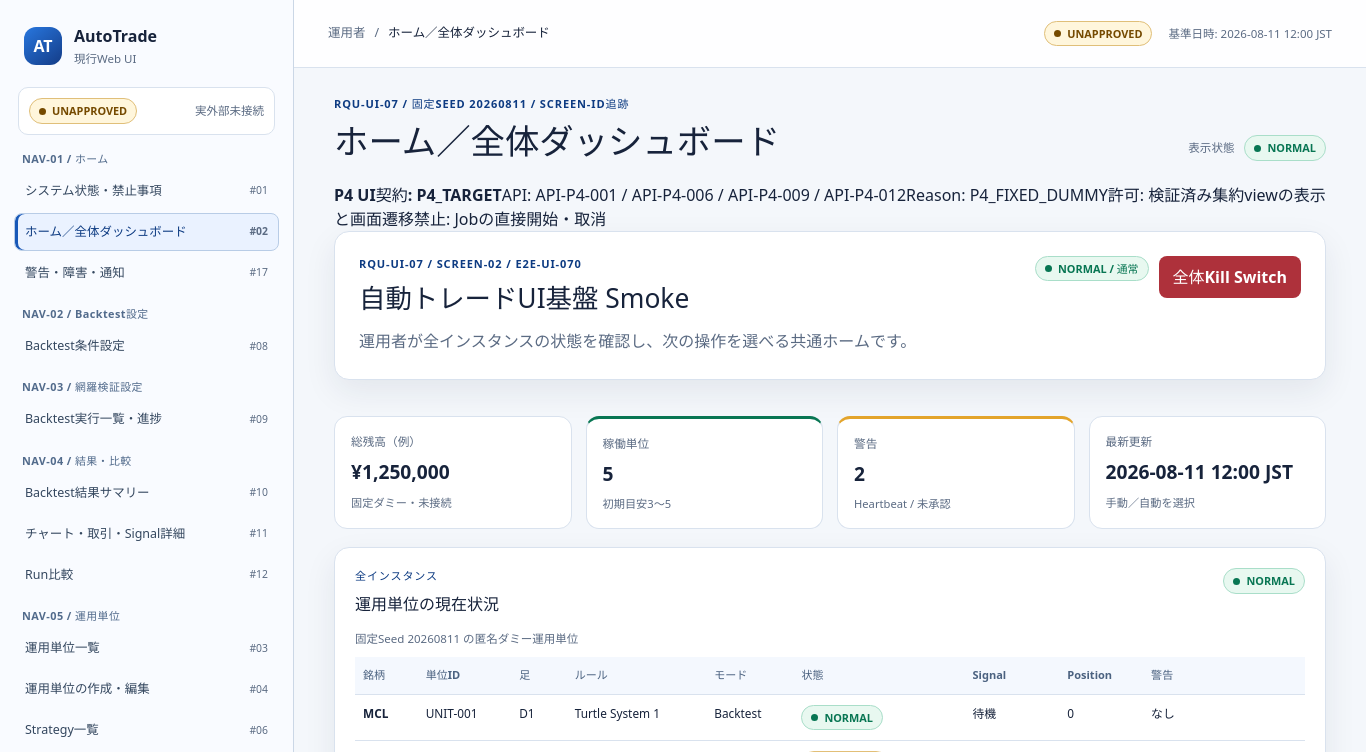
Test case: RQU-UI-08 core operation journeys › exposes the current Backtest Web画面 condition screen with only supported strategy timeframes
Click the button with test id "nav-SCREEN-08". click: (75, 346)
box: x1=14 y1=328 x2=279 y2=366
(page scrolled)
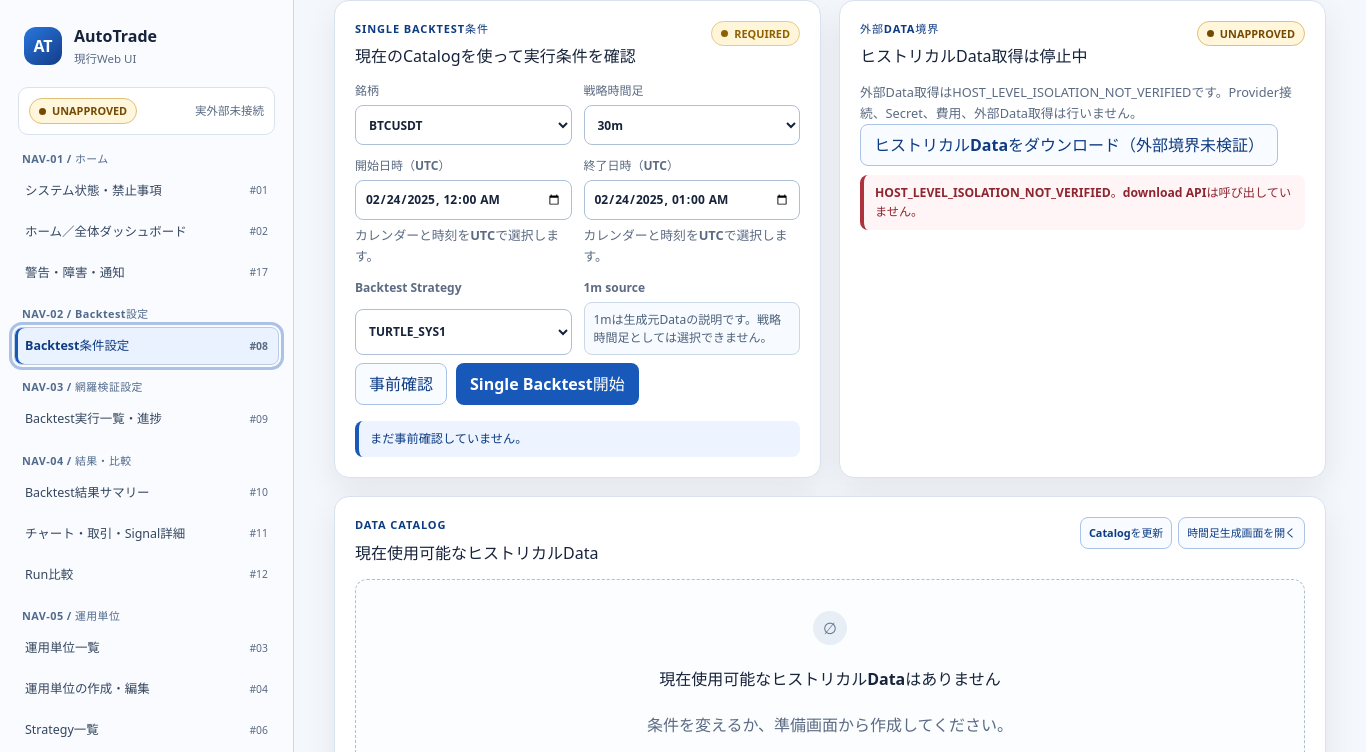
Expected: the dropdown labelled "戦略時間足" does not show "1m", x1=584 y1=105 x2=800 y2=145
Expected: the button "事前確認" is enabled, x1=355 y1=363 x2=447 y2=405
